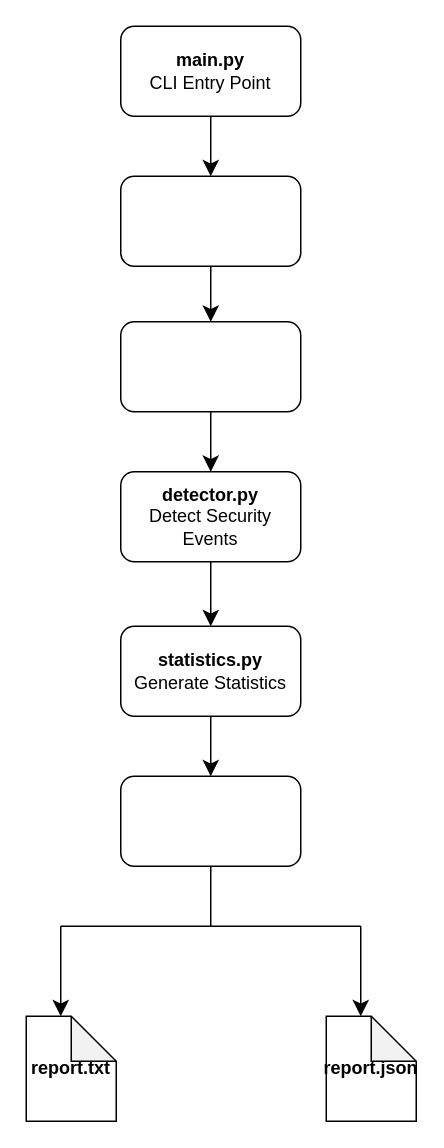
The diagram is 444 pixels wide and 1148 high, and some of its shapes have lost their labels. Each missing label, with the box of its shape:
parser.py Parse Raw Logs: (119, 320, 301, 412)
reader.py Read Log File: (119, 175, 301, 266)
reporter.py Generate Reports: (119, 775, 301, 866)
